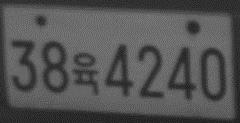0: (201, 46, 226, 100)
2: (137, 44, 164, 99)
3: (9, 39, 37, 92)
4: (104, 42, 134, 98), (168, 46, 196, 101)
8: (41, 39, 69, 94)
육: (71, 51, 99, 96)
